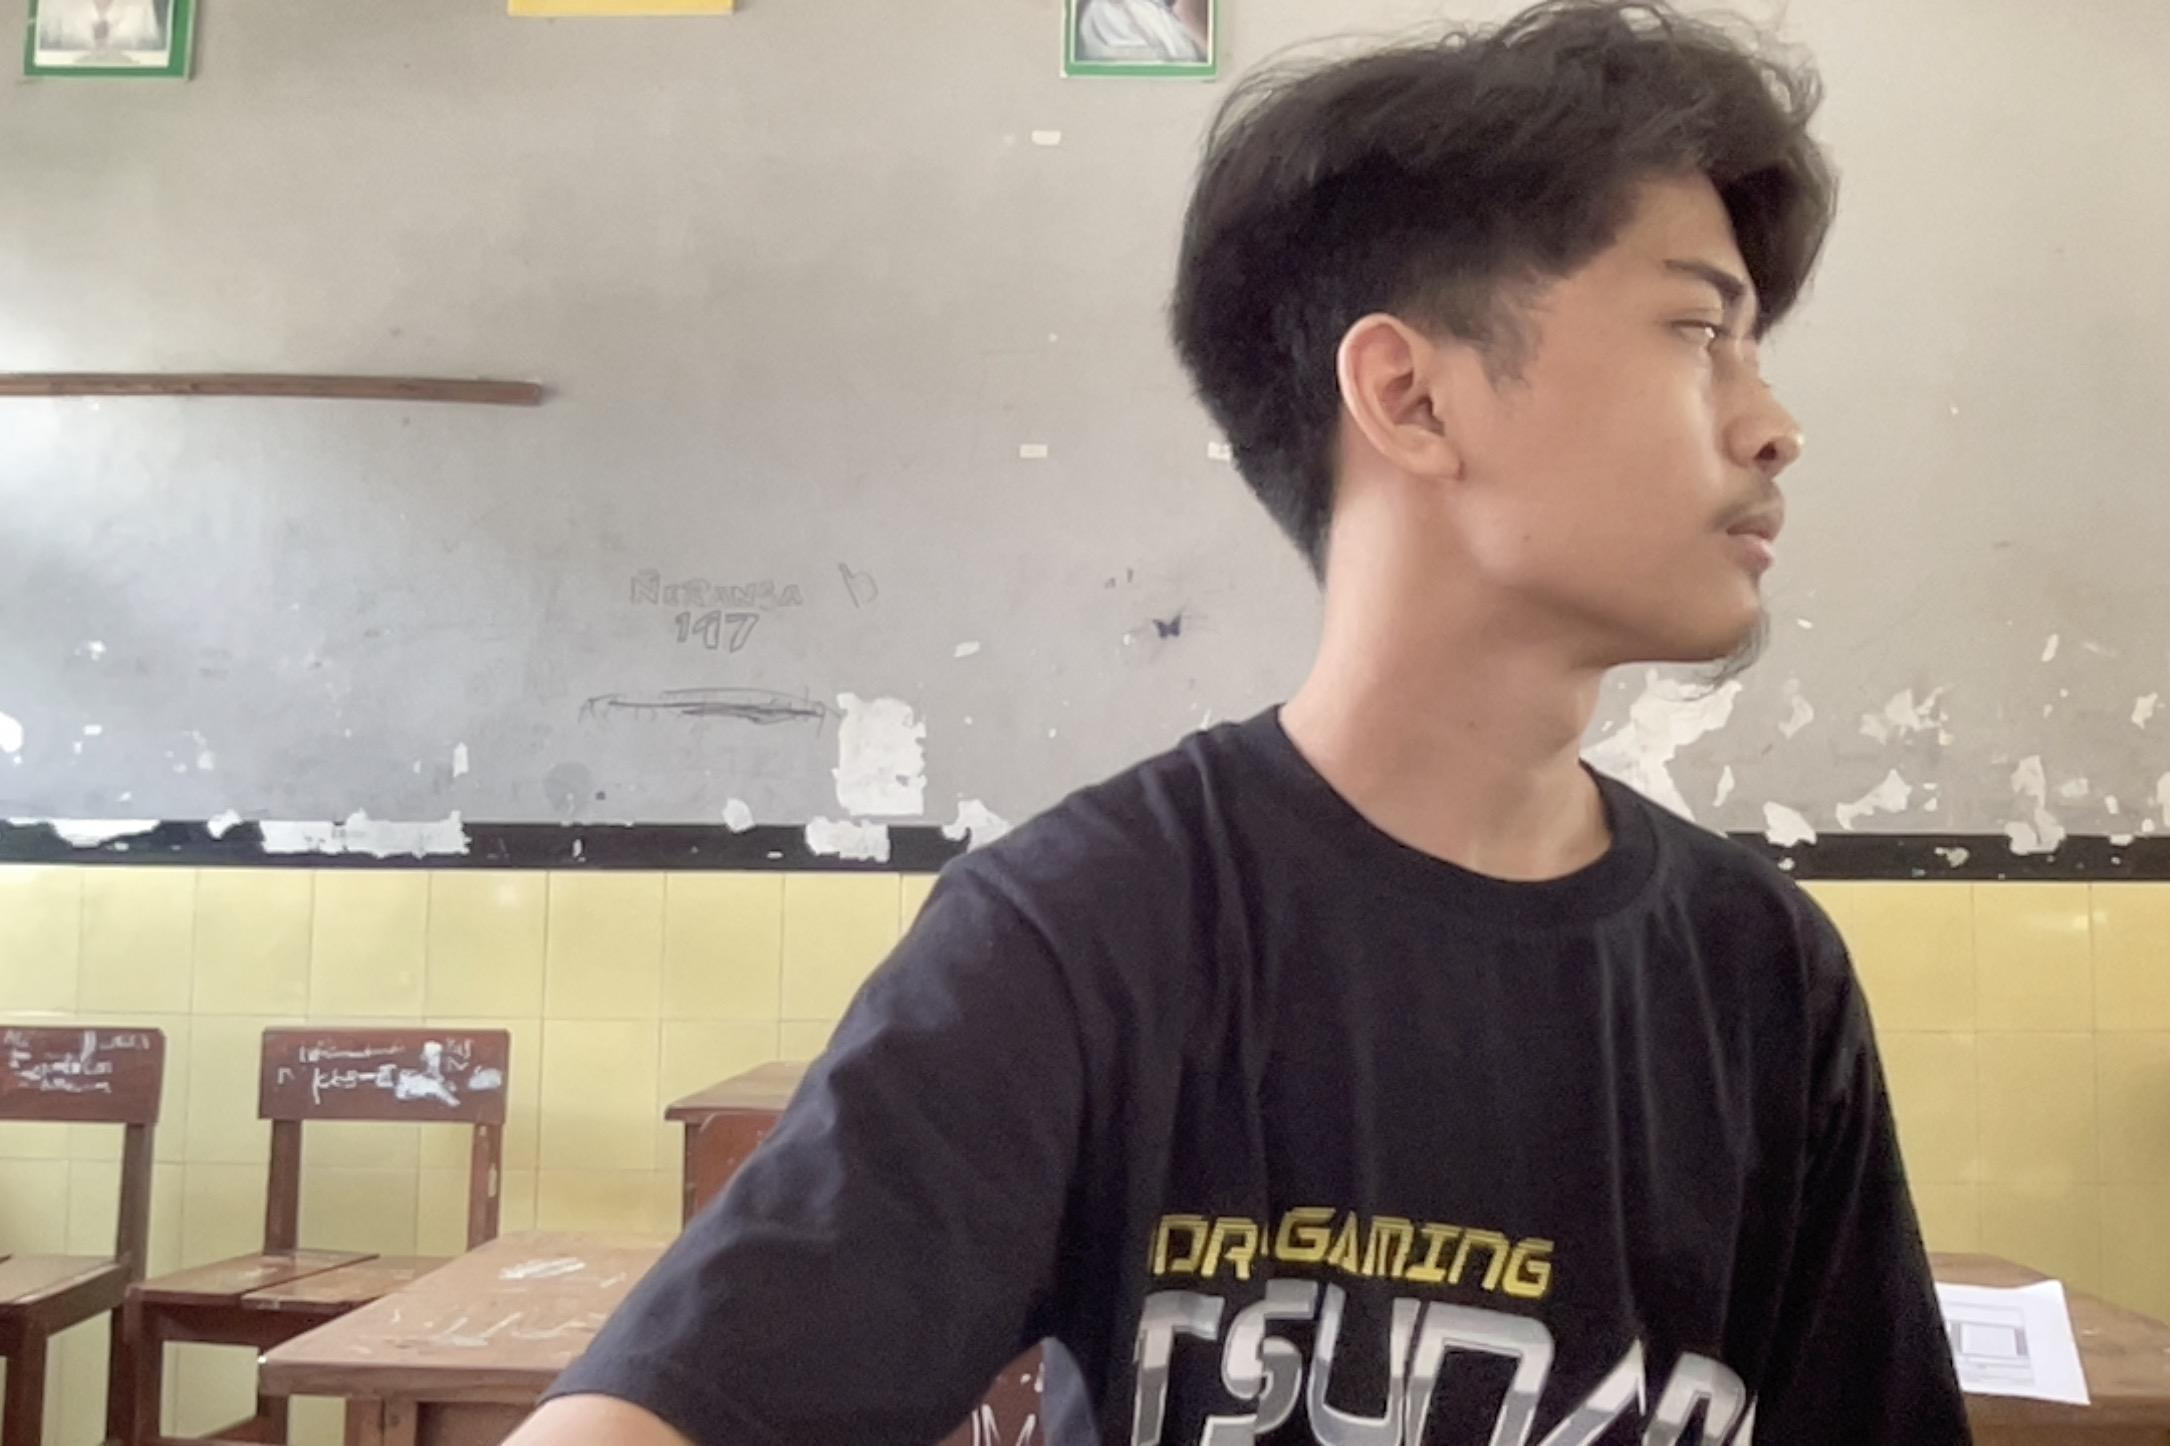cheating: (487, 8, 1963, 1446)
